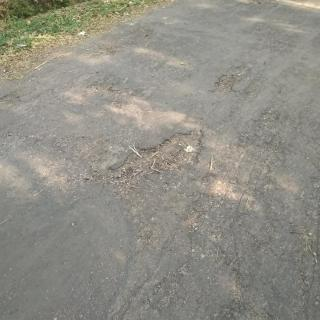pothole: (83, 124, 205, 197)
